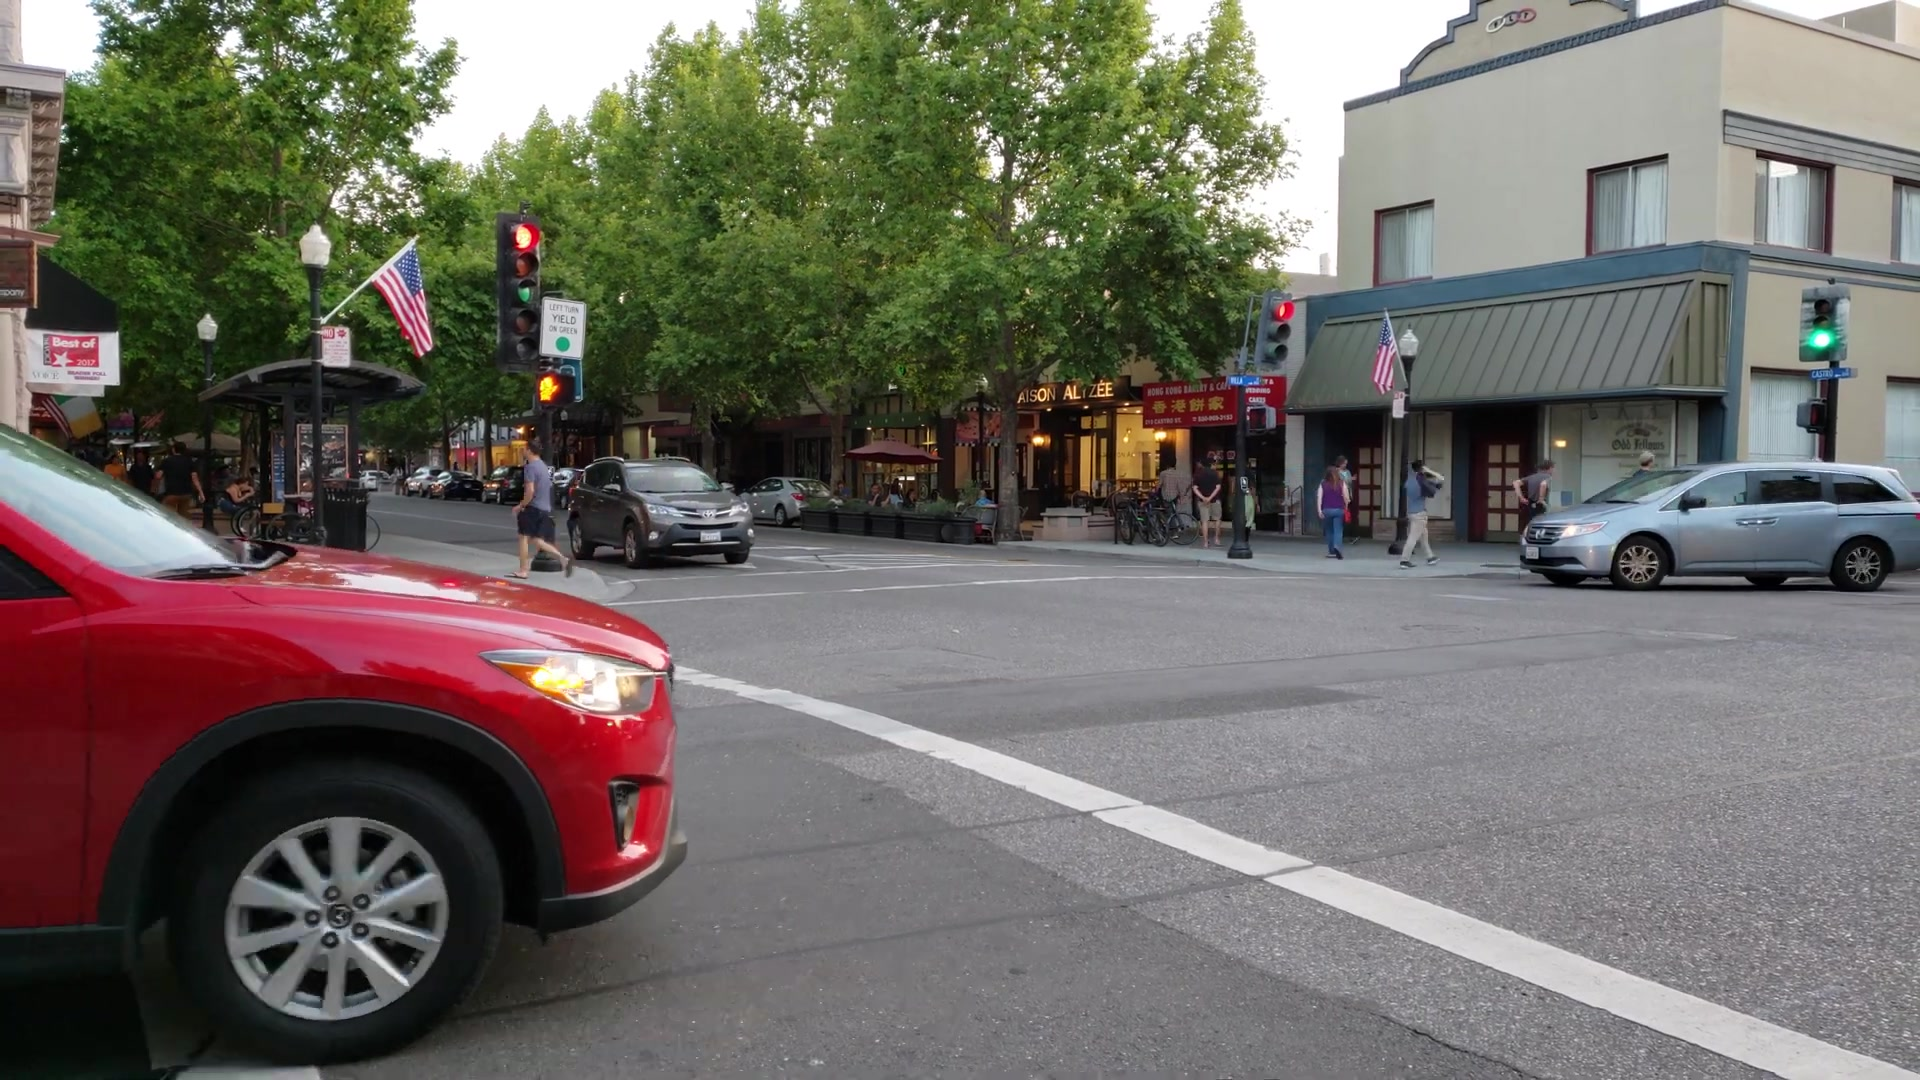vehicle: (1, 433, 684, 1069), (1516, 458, 1920, 595), (566, 458, 757, 570)
